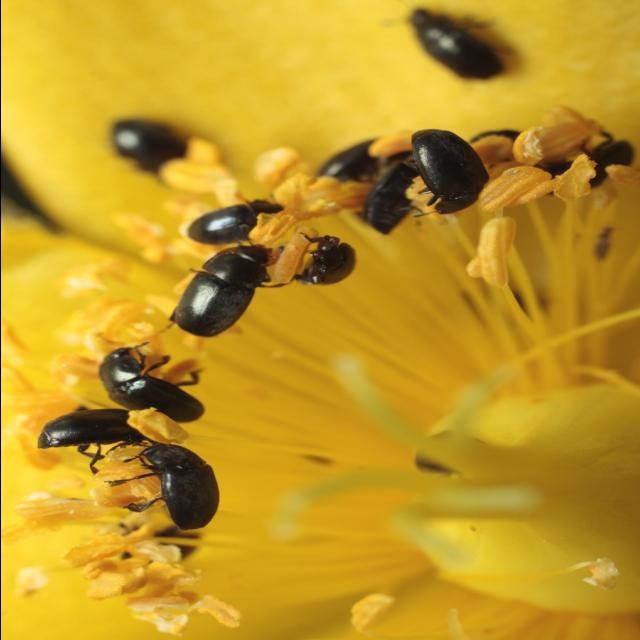pollen_beetle: (162, 239, 286, 344), (88, 340, 220, 430), (394, 117, 496, 225), (121, 446, 229, 536), (23, 404, 146, 474), (346, 156, 431, 242), (164, 188, 288, 244), (274, 222, 364, 298)
